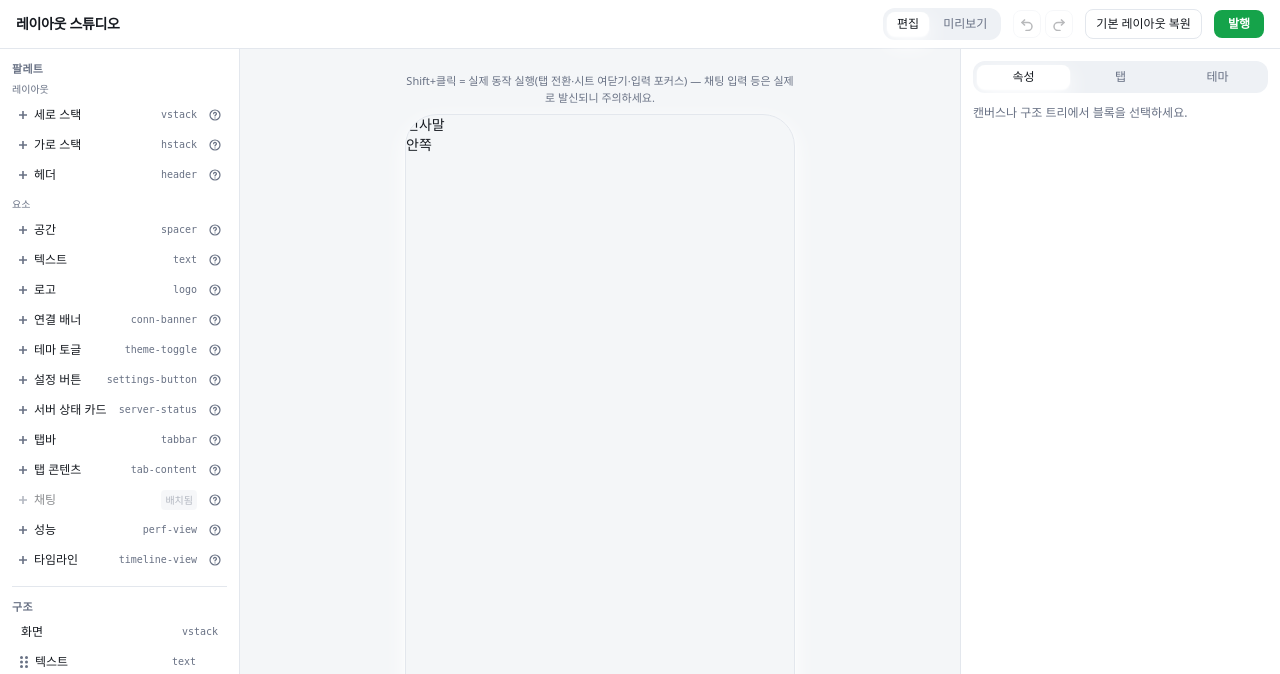
Test case: StudioApp (T6.3 — 우클릭 컨텍스트 메뉴 배선) › 이름 변경: Escape는 커밋 없이 닫는다
Right-click the text "인사말": (425, 124) [406,115,445,134]
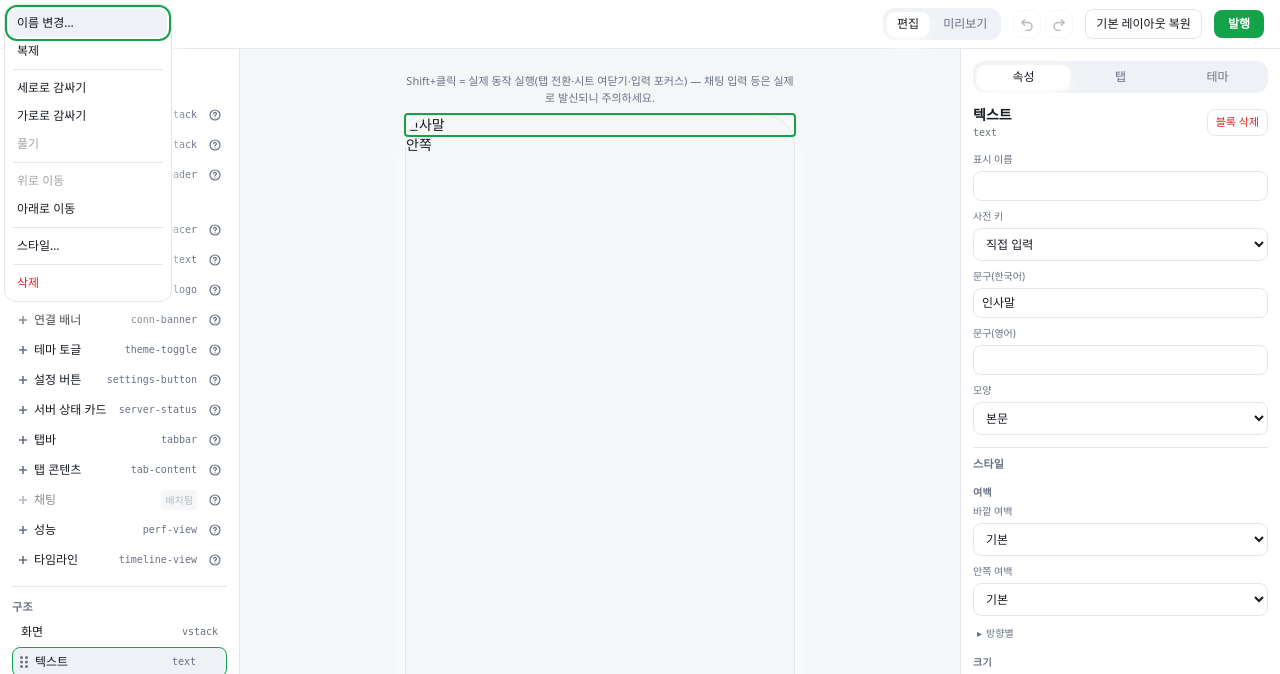
Click the menu item "이름 변경…": (88, 23) [9,9,167,37]
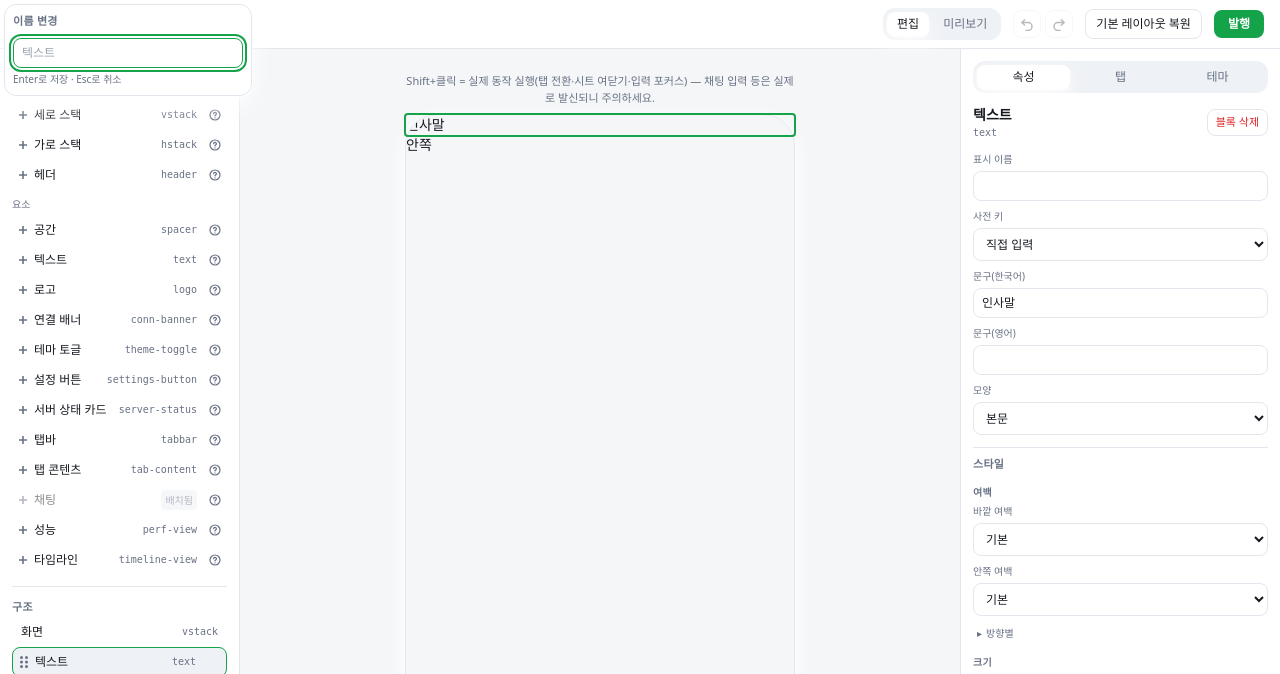
In the field with placeholder "텍스트": (128, 52) [13,38,243,68], type "임시"
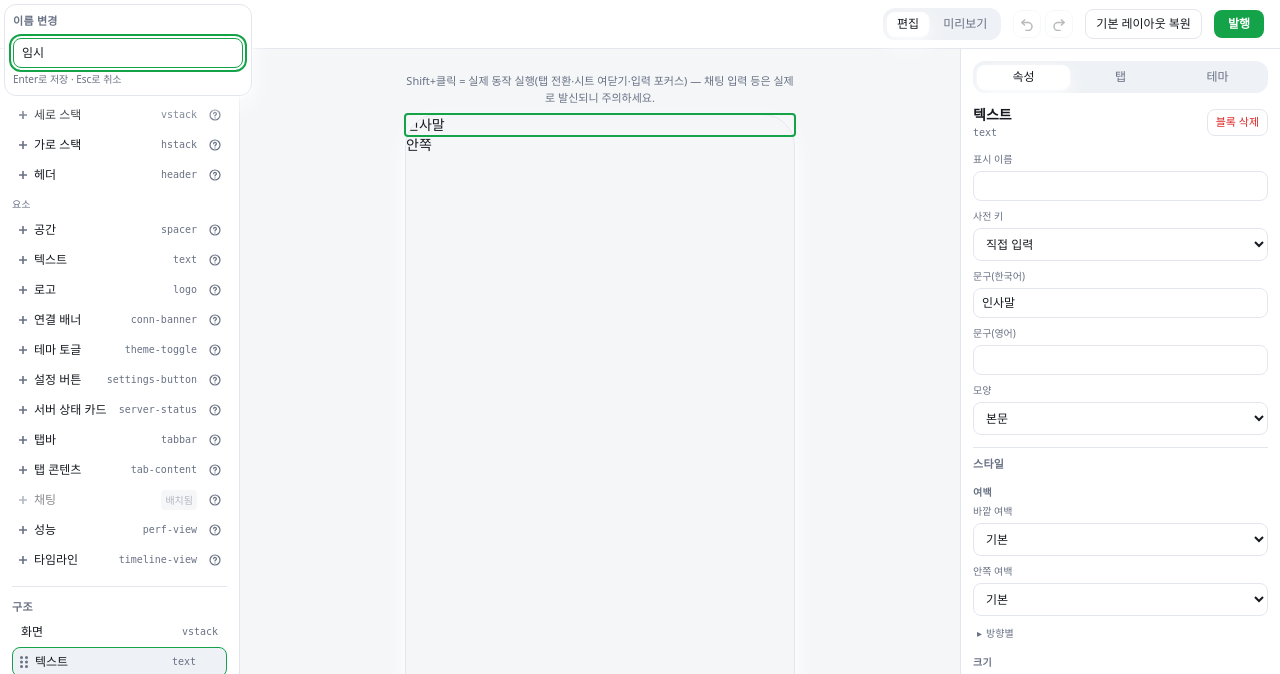
Press Escape in the field named "표시 이름", box [13,38,243,68]
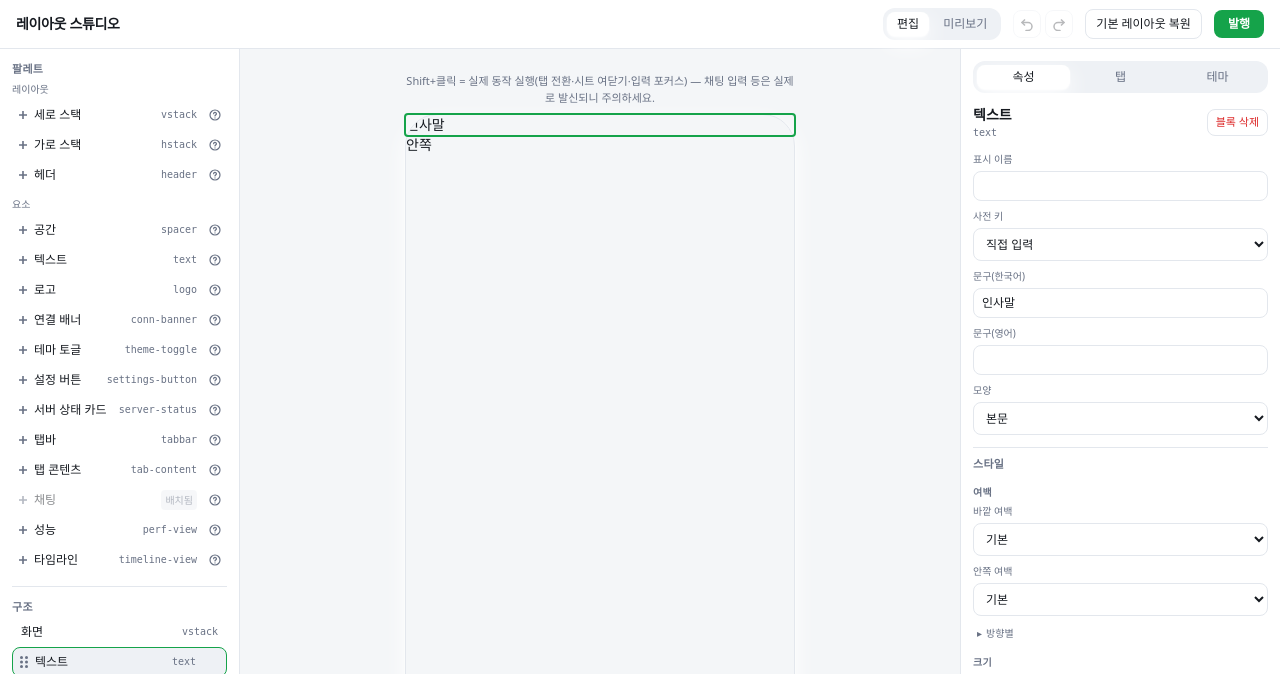
Expected: the text "임시" is not shown
Result: the dialog is gone
